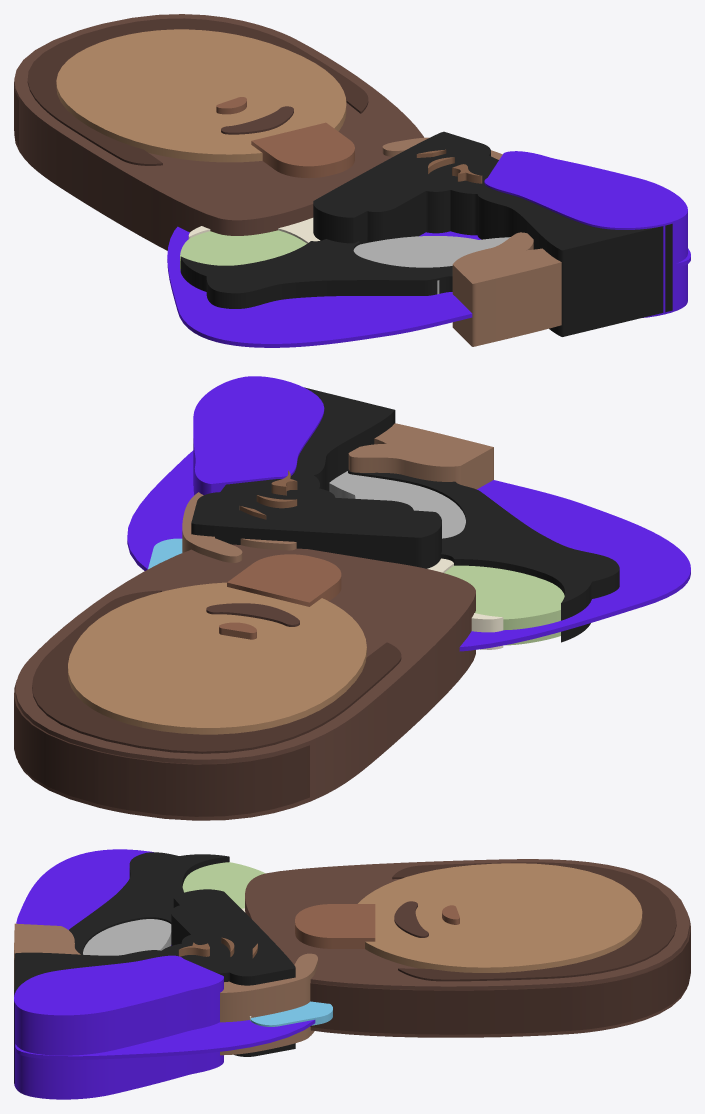
Rendered from emoji_u1f469_1f3fd_200d_1f37c.glb.
The picture shows the model from 3 angles, top to bottom: view 1: azimuth 30°, elevation 25°; view 2: azimuth 150°, elevation 25°; view 3: azimuth 270°, elevation 25°; orthographic projection. The views are drawn at different scales.
Visible parts, largest first — view 1: emoji_u1f469_1f3fd_200d_1f37c; view 2: emoji_u1f469_1f3fd_200d_1f37c; view 3: emoji_u1f469_1f3fd_200d_1f37c.
Part boxes in pixels (box(x1,y1,x2,y2)): emoji_u1f469_1f3fd_200d_1f37c: box(14, 14, 690, 347); emoji_u1f469_1f3fd_200d_1f37c: box(14, 376, 690, 820); emoji_u1f469_1f3fd_200d_1f37c: box(14, 849, 690, 1099).
Bounding box in the file's own units: 0.0242 × 0.0052 × 0.0335.
